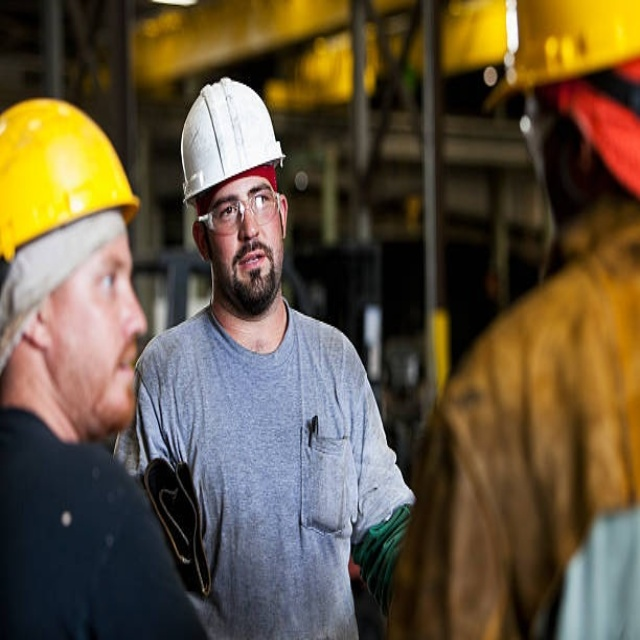Gafas: (196, 188, 283, 226)
Sin_gafas: (72, 249, 136, 304)
Sin_mascara: (100, 334, 145, 416), (231, 238, 271, 290)
